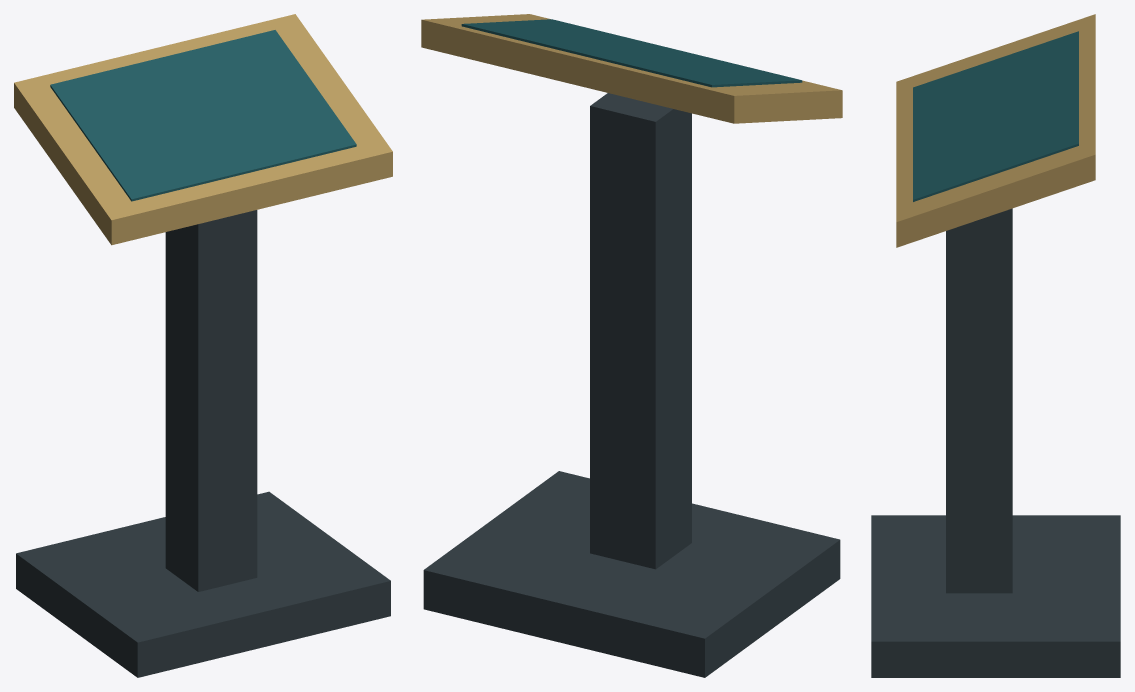
The model's file is VIC_E08_INFO_STAND_Roblox.fbx.
3 views of the same model, side by side, from view 1: azimuth 30°, elevation 25°; view 2: azimuth 150°, elevation 25°; view 3: azimuth 270°, elevation 25° (orthographic). The views are drawn at different scales.
Visible parts, largest first — view 1: VIC_E08_INFO_STAND__Charcoal, VIC_E08_INFO_STAND__Teal, VIC_E08_INFO_STAND__Brass; view 2: VIC_E08_INFO_STAND__Charcoal, VIC_E08_INFO_STAND__Brass, VIC_E08_INFO_STAND__Teal; view 3: VIC_E08_INFO_STAND__Charcoal, VIC_E08_INFO_STAND__Teal, VIC_E08_INFO_STAND__Brass.
Boxes of the visible parts, x1,y1,x2,y2 form: VIC_E08_INFO_STAND__Charcoal: (16, 210, 390, 677); VIC_E08_INFO_STAND__Teal: (50, 30, 356, 201); VIC_E08_INFO_STAND__Brass: (14, 14, 392, 245); VIC_E08_INFO_STAND__Charcoal: (423, 93, 840, 677); VIC_E08_INFO_STAND__Brass: (421, 14, 842, 123); VIC_E08_INFO_STAND__Teal: (461, 19, 802, 87); VIC_E08_INFO_STAND__Charcoal: (871, 208, 1120, 677); VIC_E08_INFO_STAND__Teal: (913, 31, 1078, 201); VIC_E08_INFO_STAND__Brass: (896, 14, 1095, 247).
Bounding box in the file's own units: 2 × 3.52 × 1.5.
